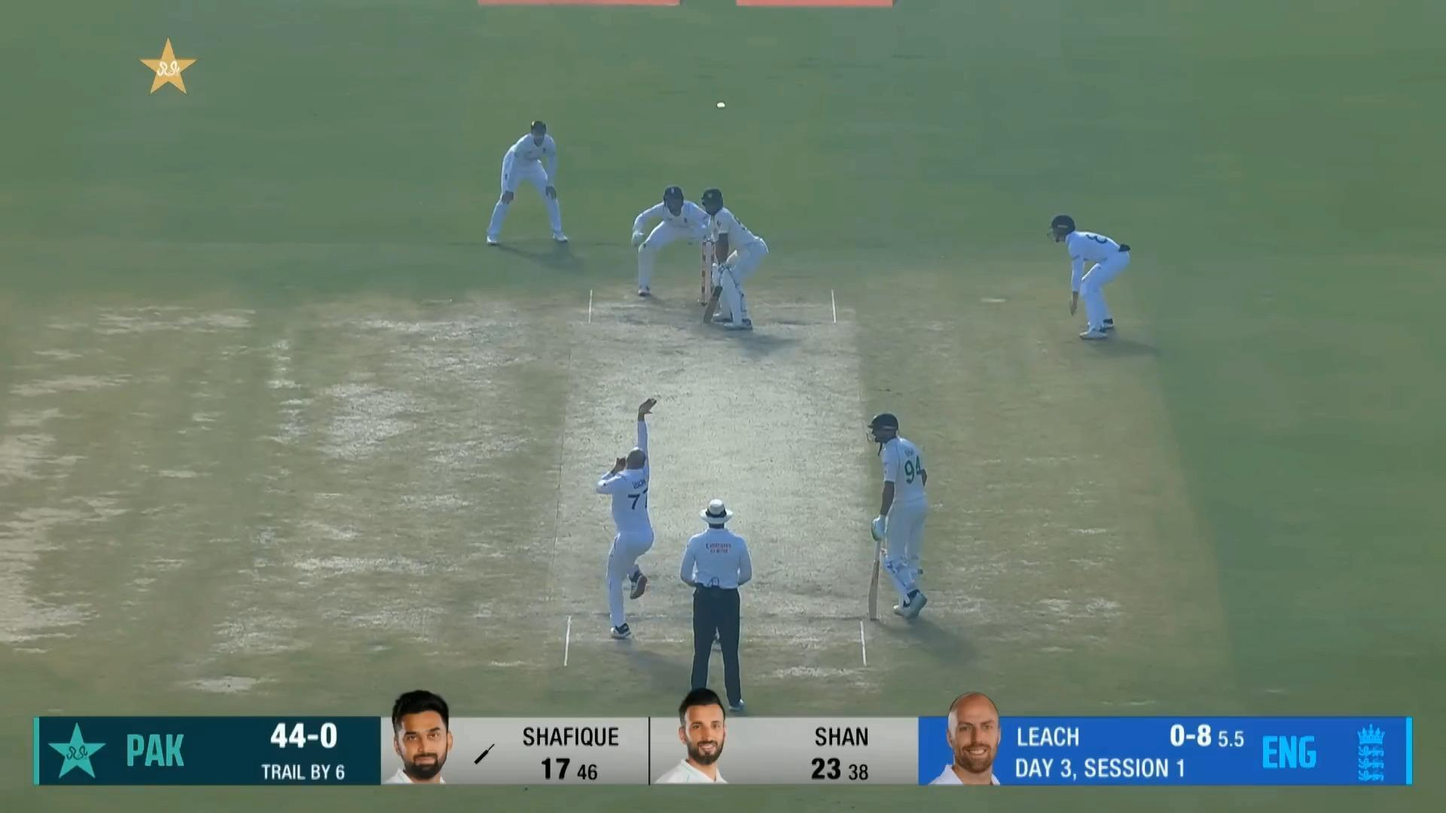BM 1: (701, 187, 769, 330)
BO: (595, 397, 658, 639)
